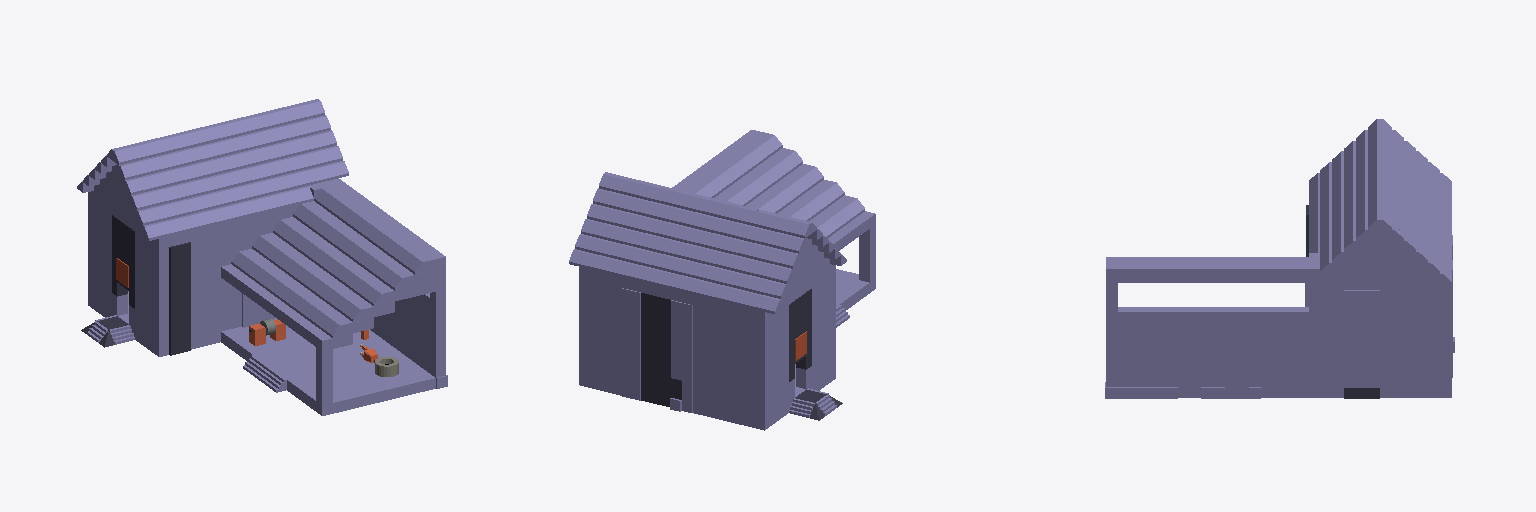
File: blacksmith.obj
The picture shows the model from 3 angles: view 1: azimuth 30°, elevation 25°; view 2: azimuth 150°, elevation 25°; view 3: azimuth 270°, elevation 25°; orthographic projection.
Visible parts, largest first — view 1: block, block_corner_large, stairs%; view 2: block, block_corner_large, stairs%; view 3: block, block_corner_large.
Part boxes in pixels (bbox=[...]): block: bbox=[88, 164, 447, 415]; block_corner_large: bbox=[77, 99, 424, 337]; stairs%: bbox=[87, 315, 286, 392]; block: bbox=[579, 130, 875, 430]; block_corner_large: bbox=[569, 134, 864, 313]; stairs%: bbox=[789, 305, 849, 417]; block: bbox=[1105, 205, 1454, 398]; block_corner_large: bbox=[1106, 119, 1451, 283].
Size of the model in its own units: 10.05 by 7.77 by 13.45.